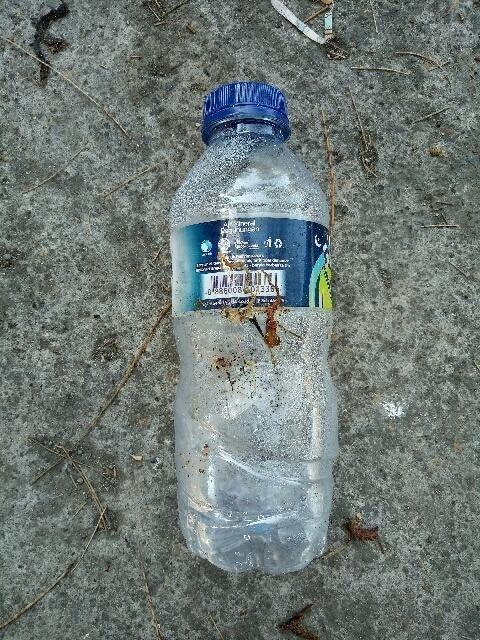bottle-plastic: (162, 74, 345, 581)
